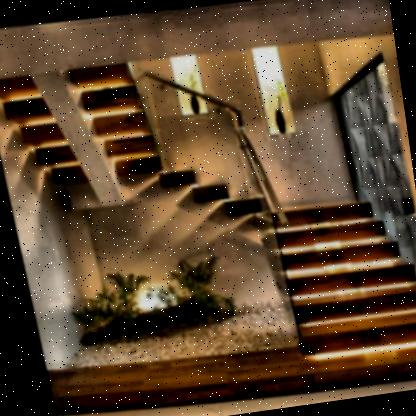stair: (274, 188, 416, 387)
